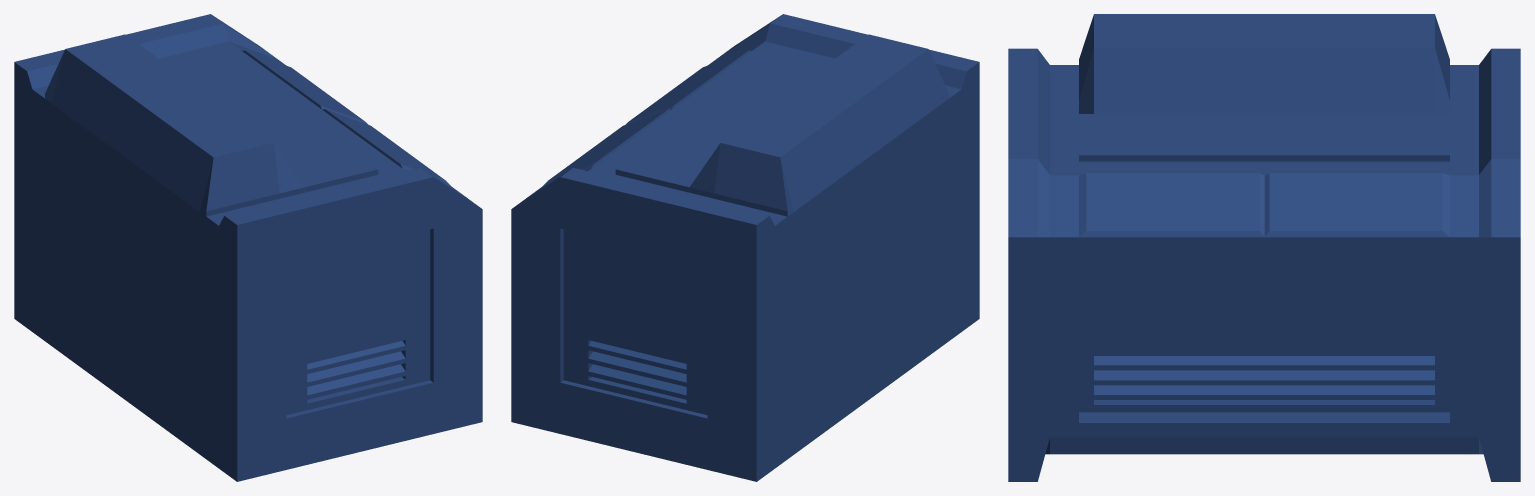
The model's file is ControlPanel.fbx.
3 views of the same model, side by side, from view 1: azimuth 30°, elevation 25°; view 2: azimuth 150°, elevation 25°; view 3: azimuth 270°, elevation 25° (orthographic). The views are drawn at different scales.
Visible parts, largest first — view 1: Cube; view 2: Cube; view 3: Cube.
Part boxes in pixels (x1,y1,x2,y2): Cube: (14,14,482,481); Cube: (511,14,979,481); Cube: (1008,14,1520,481).
Size of the model in its own units: 200 by 229 by 314.
